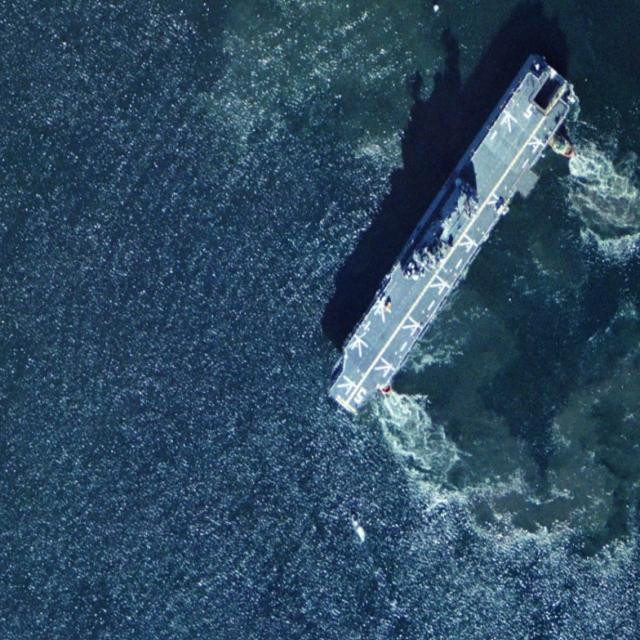Landing: (313, 45, 592, 434)
